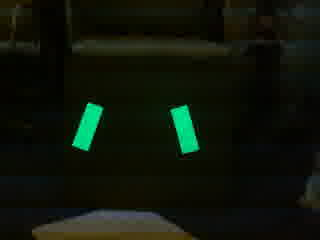target: (71, 100, 200, 154)
